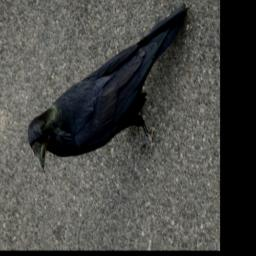Crow: (23, 0, 192, 190)
